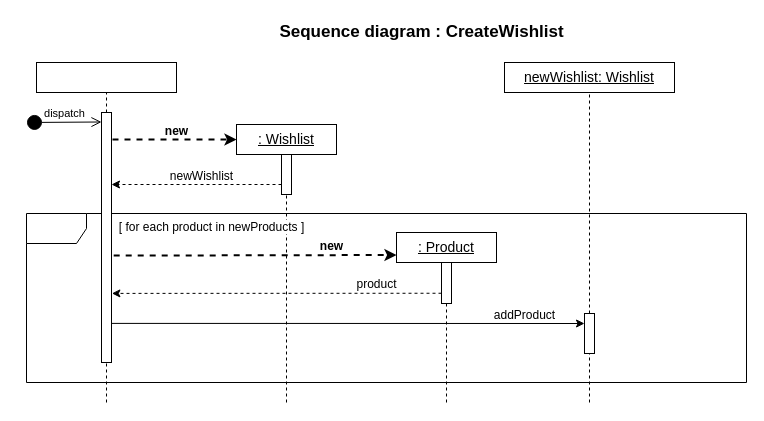
This 764x421 diagram has some shape labels left out. Each missing label, with the box of its shape:
: CreateWishlist: (36, 62, 176, 92)
loop: (26, 212, 746, 382)
